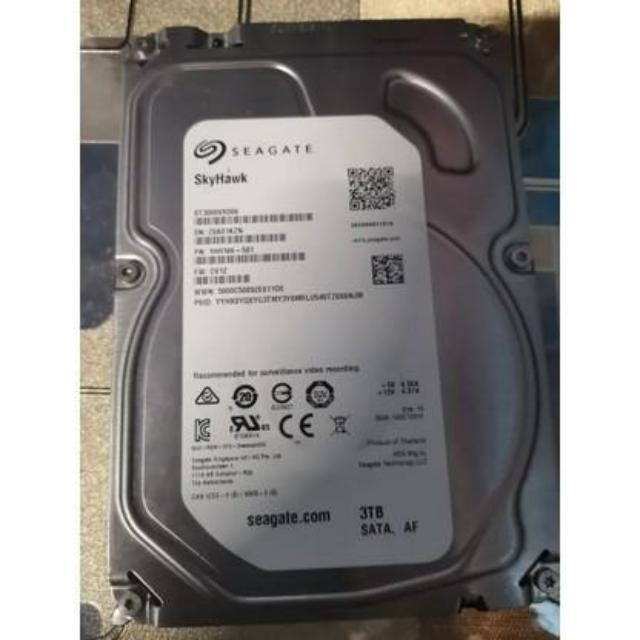DISK: (112, 18, 563, 634)
